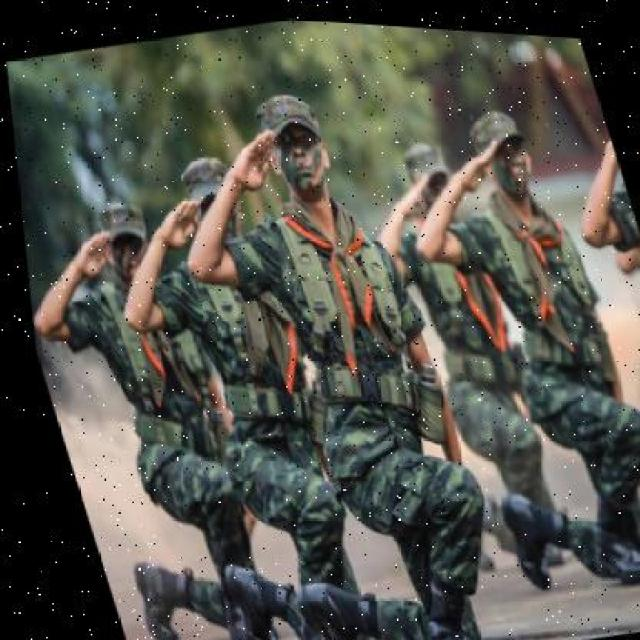MIL_Pax: (222, 80, 503, 640), (128, 137, 382, 640), (18, 198, 262, 630), (360, 116, 575, 593), (440, 94, 640, 571), (552, 54, 640, 592)
